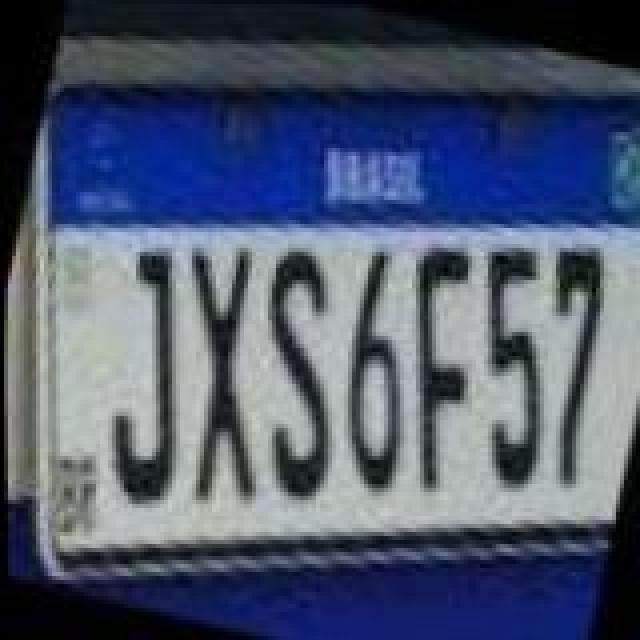5: (432, 232, 580, 488)
6: (314, 240, 442, 496)
7: (498, 236, 626, 492)
F: (358, 236, 494, 496)
J: (76, 238, 216, 510)
S: (220, 236, 376, 504)
X: (130, 232, 306, 516)
